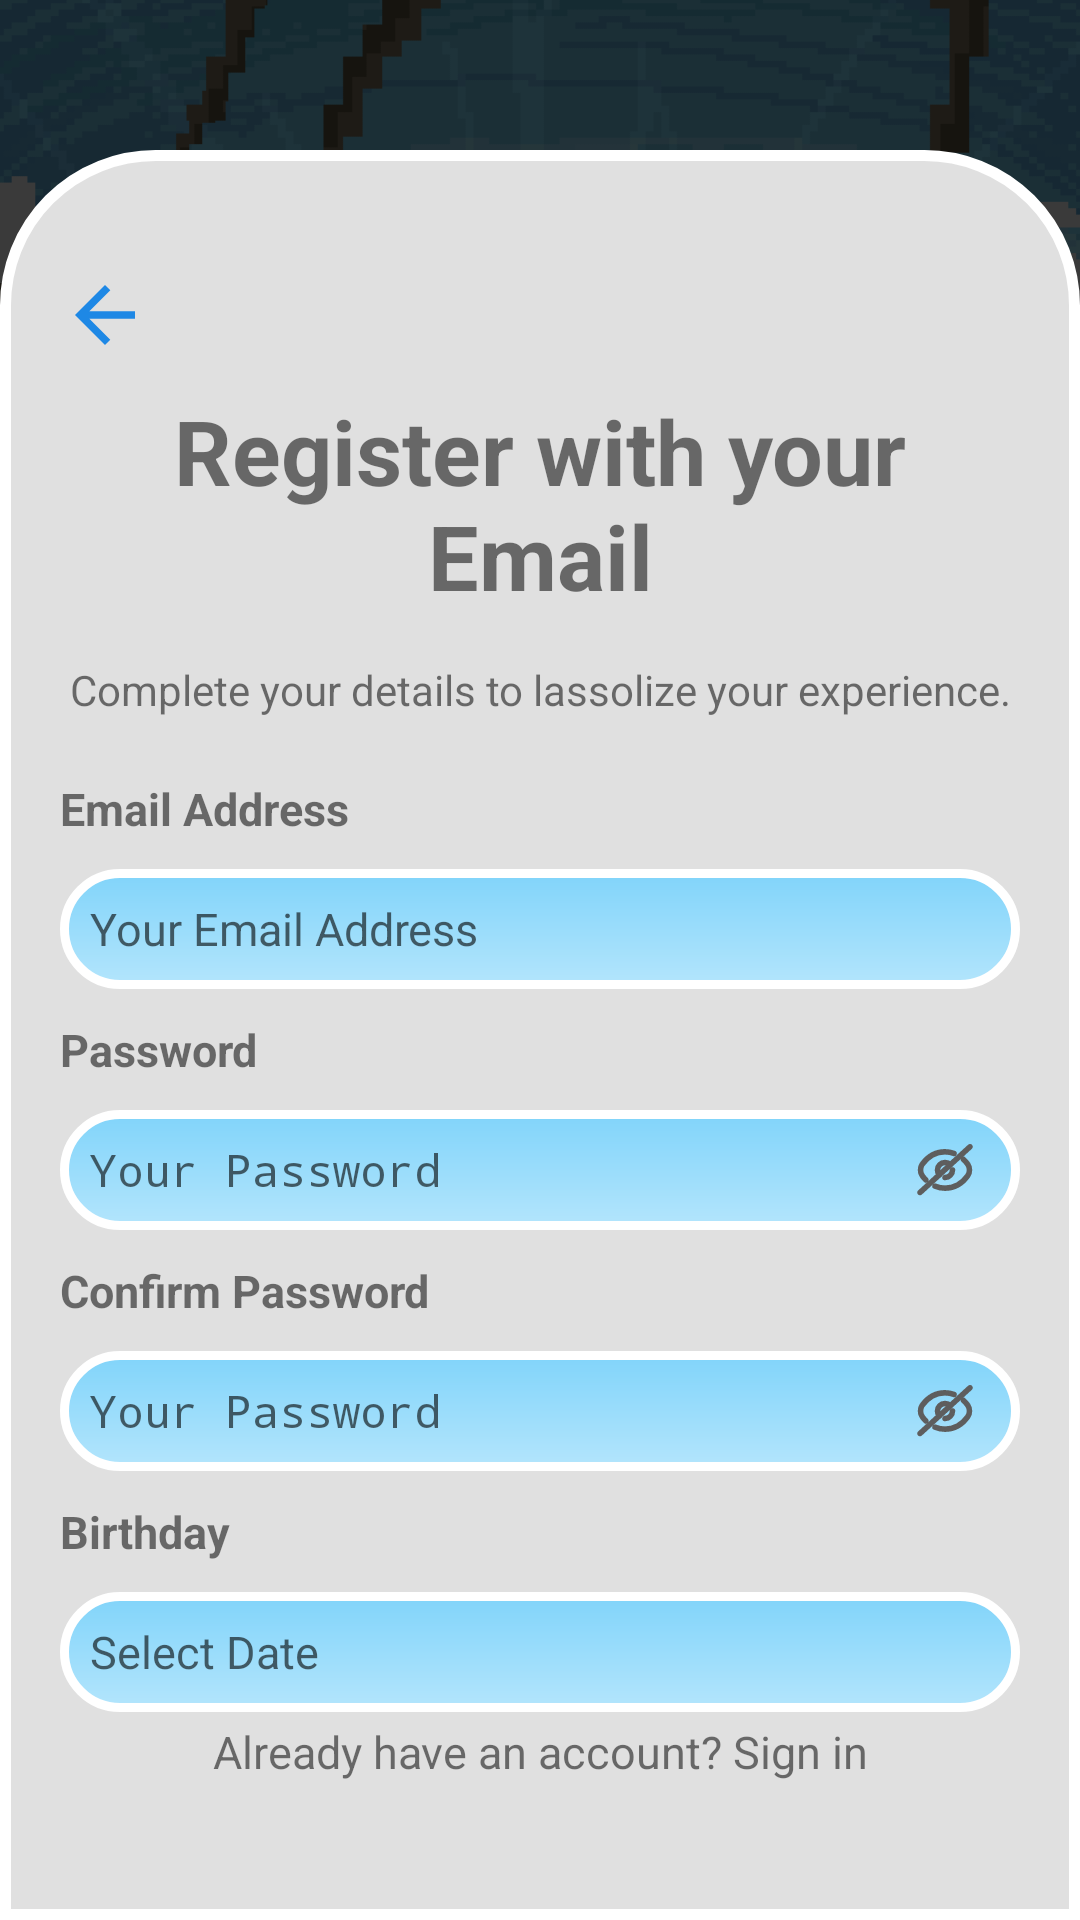

Named icons in this screenshot (1080px x 1920px) and their centers, [x,y]:
eye close: [945,1170], [945,1411]
